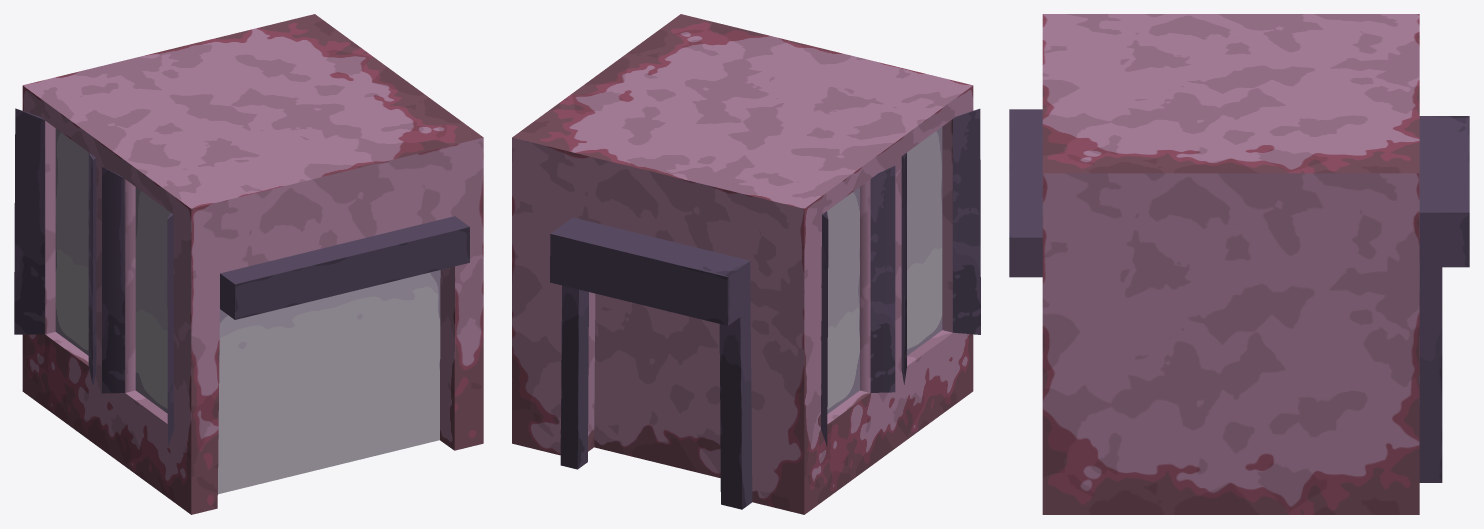
File: Mod_Building.fbx
3 views of the same model, side by side, from view 1: azimuth 30°, elevation 25°; view 2: azimuth 150°, elevation 25°; view 3: azimuth 270°, elevation 25° (orthographic). The views are drawn at different scales.
Parts seen in each view (by area): view 1: Building_modkey; view 2: Building_modkey; view 3: Building_modkey.
Part boxes in pixels (x1,y1,x2,y2): Building_modkey: [14, 14, 483, 514]; Building_modkey: [512, 14, 980, 514]; Building_modkey: [1009, 14, 1469, 514].
Bounding box in the file's own units: 0.2553 × 0.2424 × 0.2962.
